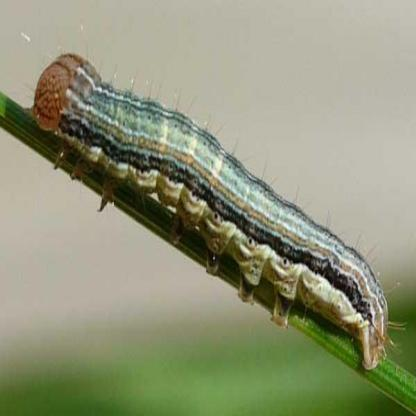armyworm: (24, 13, 410, 398)
